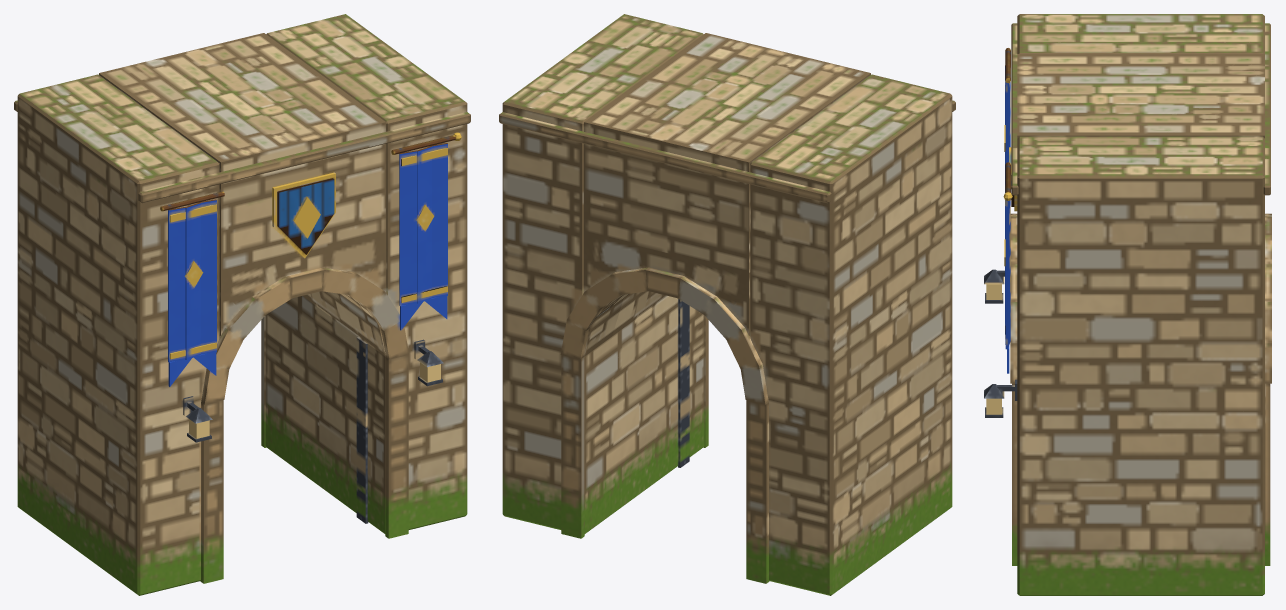
The model's file is Kit_Gate_Arch_Fractured.fbx.
The picture shows the model from 3 angles, left to right: view 1: azimuth 30°, elevation 25°; view 2: azimuth 150°, elevation 25°; view 3: azimuth 270°, elevation 25°; orthographic projection.
Parts seen in each view (by area): view 1: Kit_Gate_Arch_frag_04, Kit_Gate_Arch_frag_01, Kit_Gate_Arch_frag_03, Kit_Gate_Arch_frag_05, Kit_Gate_Arch_frag_07, Kit_Gate_Arch_frag_06, Kit_Gate_Arch_frag_02; view 2: Kit_Gate_Arch_frag_07, Kit_Gate_Arch_frag_02, Kit_Gate_Arch_frag_04, Kit_Gate_Arch_frag_03, Kit_Gate_Arch_frag_01, Kit_Gate_Arch_frag_05, Kit_Gate_Arch_frag_06; view 3: Kit_Gate_Arch_frag_05, Kit_Gate_Arch_frag_03, Kit_Gate_Arch_frag_02, Kit_Gate_Arch_frag_01, Kit_Gate_Arch_frag_07, Kit_Gate_Arch_frag_06, Kit_Gate_Arch_frag_04.
Part boxes in pixels (x1,y1,x2,y2): Kit_Gate_Arch_frag_04: [17, 218, 243, 595]; Kit_Gate_Arch_frag_01: [65, 53, 357, 362]; Kit_Gate_Arch_frag_03: [197, 311, 467, 581]; Kit_Gate_Arch_frag_05: [267, 53, 470, 348]; Kit_Gate_Arch_frag_07: [14, 68, 116, 364]; Kit_Gate_Arch_frag_06: [253, 184, 409, 364]; Kit_Gate_Arch_frag_02: [180, 14, 398, 310]; Kit_Gate_Arch_frag_07: [645, 147, 910, 583]; Kit_Gate_Arch_frag_02: [499, 62, 673, 398]; Kit_Gate_Arch_frag_04: [769, 174, 952, 595]; Kit_Gate_Arch_frag_03: [502, 299, 708, 538]; Kit_Gate_Arch_frag_01: [668, 40, 955, 201]; Kit_Gate_Arch_frag_05: [558, 14, 735, 99]; Kit_Gate_Arch_frag_06: [604, 230, 678, 369]; Kit_Gate_Arch_frag_05: [1003, 114, 1173, 424]; Kit_Gate_Arch_frag_03: [984, 379, 1270, 595]; Kit_Gate_Arch_frag_02: [1153, 94, 1271, 459]; Kit_Gate_Arch_frag_01: [1004, 14, 1270, 211]; Kit_Gate_Arch_frag_07: [1169, 14, 1271, 234]; Kit_Gate_Arch_frag_06: [1010, 213, 1017, 383]; Kit_Gate_Arch_frag_04: [984, 269, 1004, 303].
Size of what is drawn, in the model's own units: 5 by 6 by 3.72.
